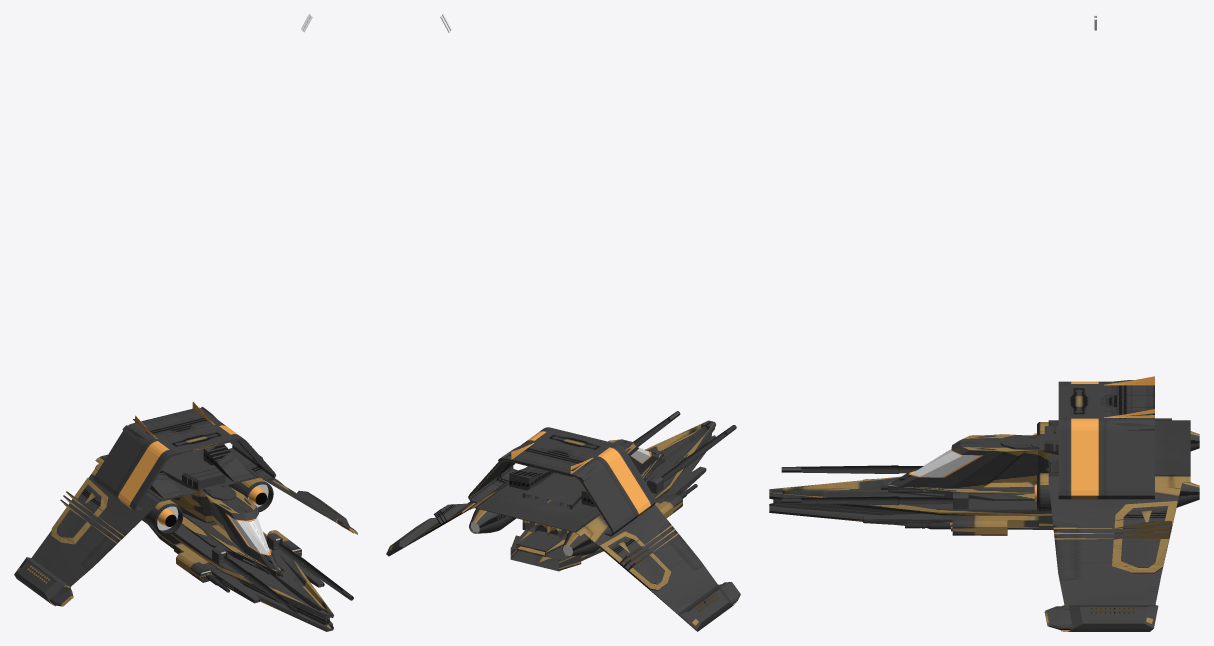
The model's file is spaceship.glb.
3 views of the same model, side by side, from view 1: azimuth 30°, elevation 25°; view 2: azimuth 150°, elevation 25°; view 3: azimuth 270°, elevation 25° (orthographic). The views are drawn at different scales.
Visible parts, largest first — view 1: Material_001-material (×7), Material_003-material, Material_004-material; view 2: Material_001-material (×7), Material_003-material; view 3: Material_001-material (×6), Material_003-material, Material_004-material.
Boxes of the visible parts, x1,y1,x2,y2 form: Material_001-material (×7): (14, 407, 357, 631); Material_003-material: (118, 401, 237, 505); Material_004-material: (229, 516, 269, 554); Material_001-material (×7): (386, 411, 740, 631); Material_003-material: (510, 431, 650, 513); Material_001-material (×6): (769, 380, 1199, 631); Material_003-material: (1071, 376, 1154, 495); Material_004-material: (911, 449, 979, 477).
Size of the model in its own units: 9.13 by 14.89 by 9.66.
7 materials, 1 textured.
